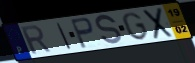G: (122, 11, 150, 41)
I: (55, 22, 73, 50)
P: (69, 16, 95, 50)
R: (19, 24, 54, 56)
S: (95, 13, 123, 47)
X: (142, 6, 175, 41)
